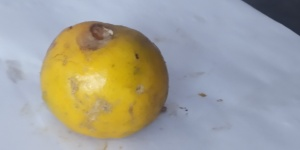BAD: (39, 21, 171, 135)
